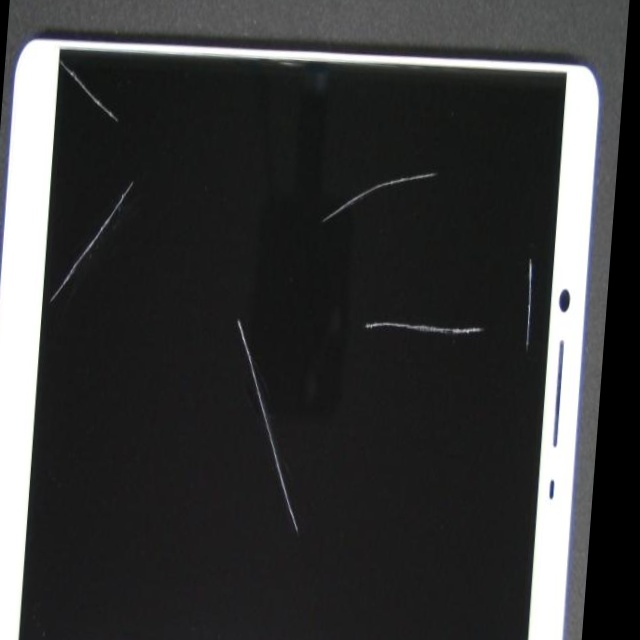scratch: (75, 0, 407, 601), (292, 14, 626, 263)
